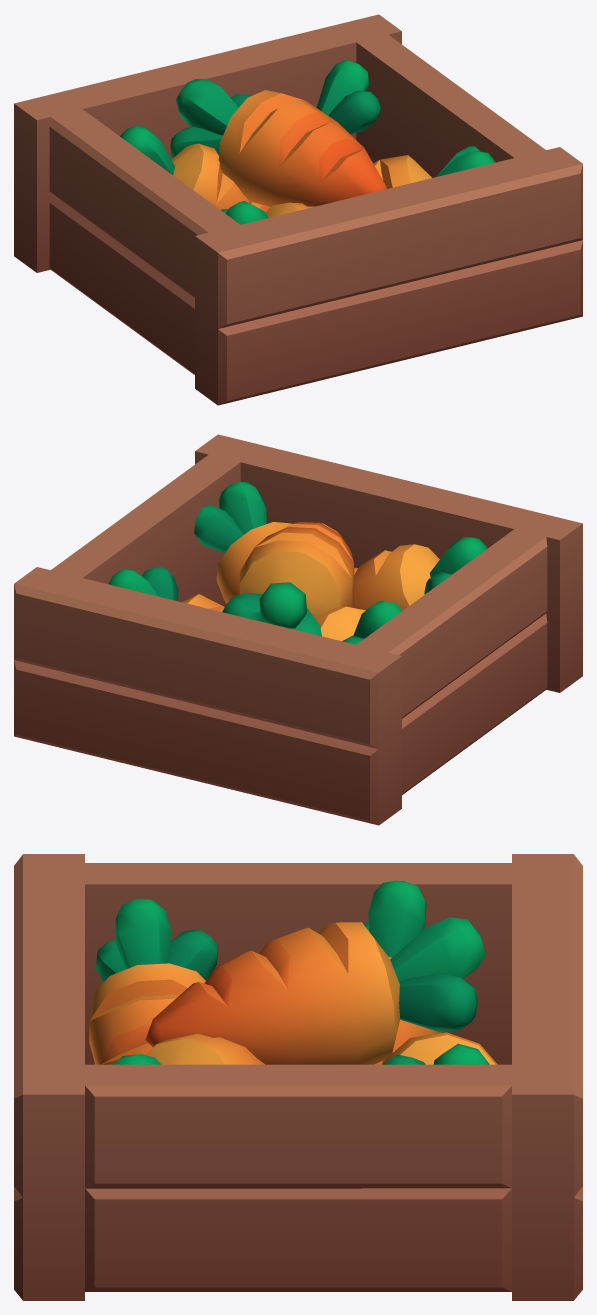
Rendered from re-crate_carrots.glb.
The picture shows the model from 3 angles, top to bottom: view 1: azimuth 30°, elevation 25°; view 2: azimuth 150°, elevation 25°; view 3: azimuth 270°, elevation 25°; orthographic projection. The views are drawn at different scales.
Visible parts, largest first — view 1: crate_carrots; view 2: crate_carrots; view 3: crate_carrots.
Part boxes in pixels (x1=…): crate_carrots: x1=14, y1=14, x2=582, y2=405; crate_carrots: x1=14, y1=434, x2=582, y2=825; crate_carrots: x1=14, y1=854, x2=582, y2=1300.
Size of the model in its own units: 2 by 0.9432 by 2.
1 material, 1 textured.
